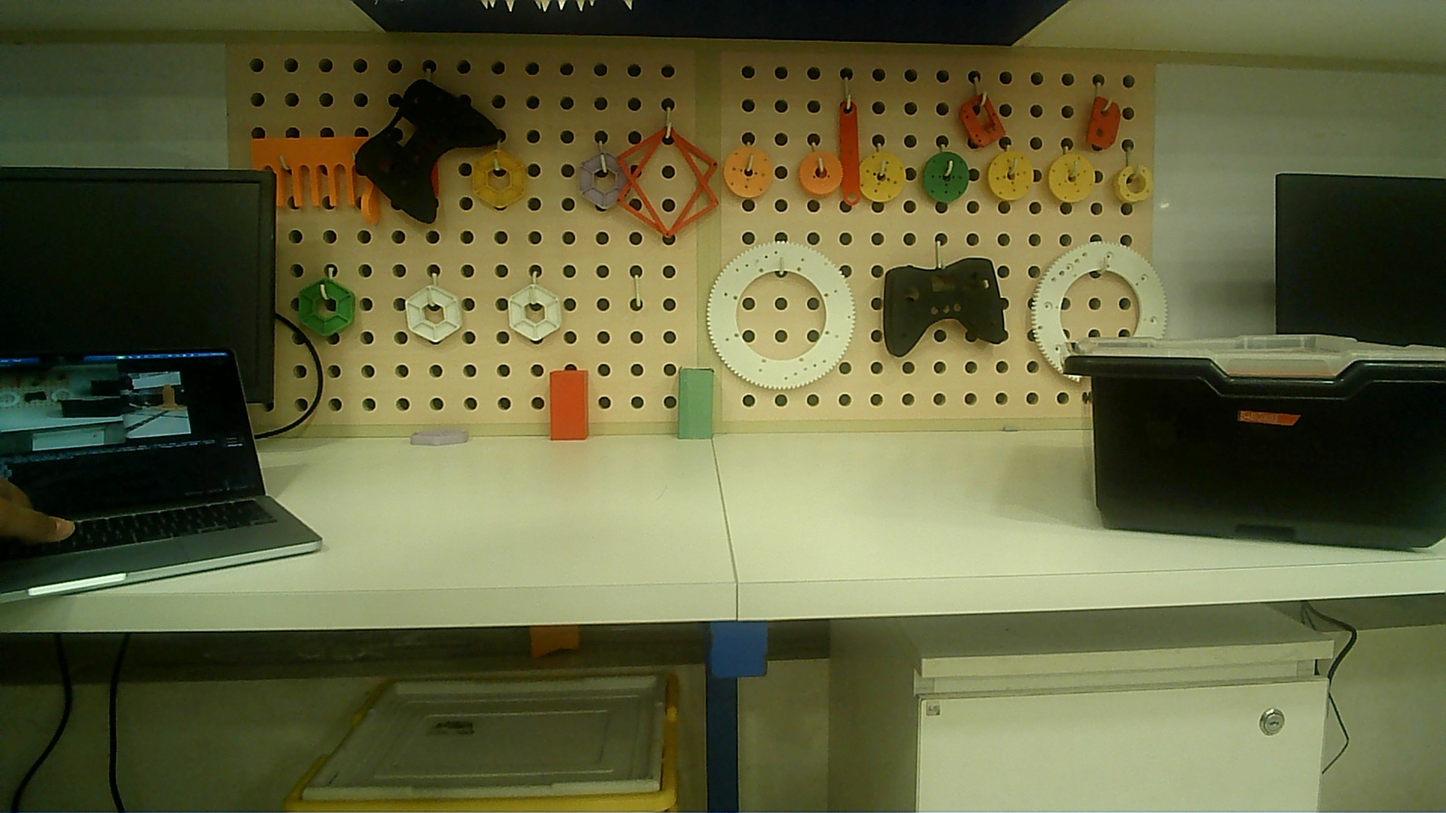red: (537, 359, 597, 455)
